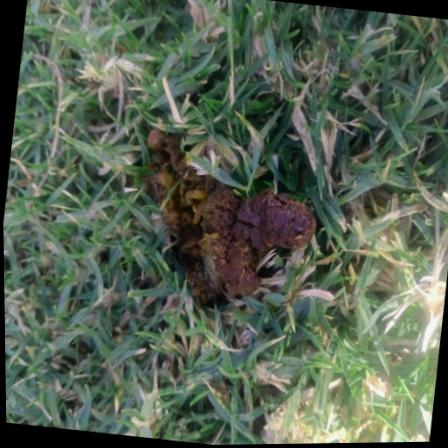dog-poop: (105, 112, 325, 340)
